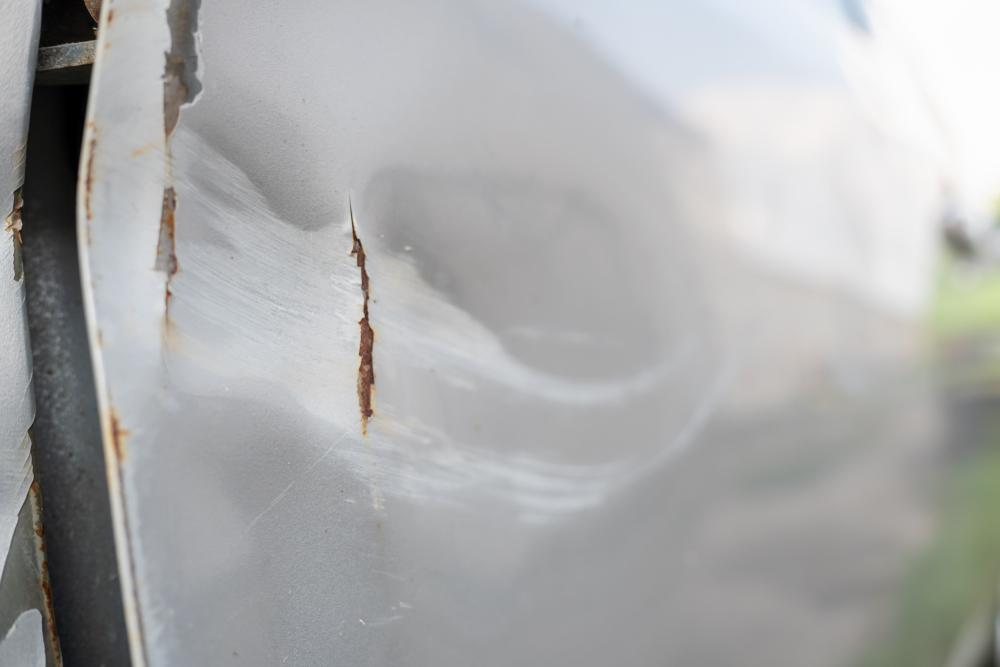dent: (87, 86, 727, 488)
